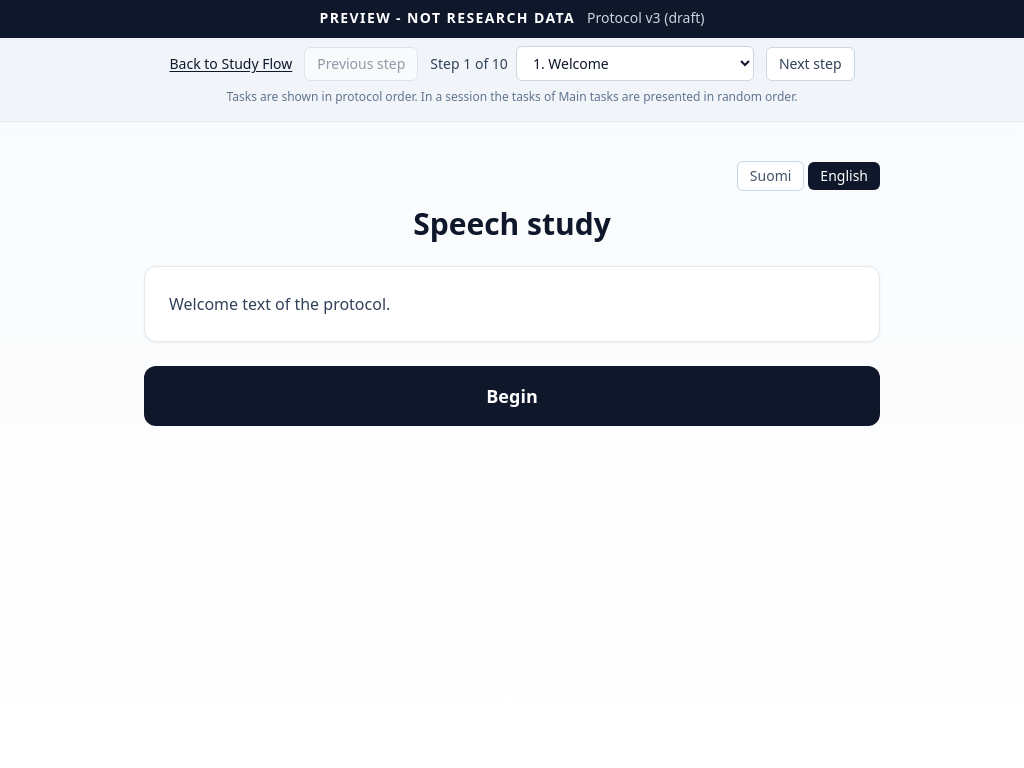
Test: PreviewFlow › offers the language buttons of the study and uses the participant dictionaries
Click the button "Suomi": (771, 176) [737,154,804,198]
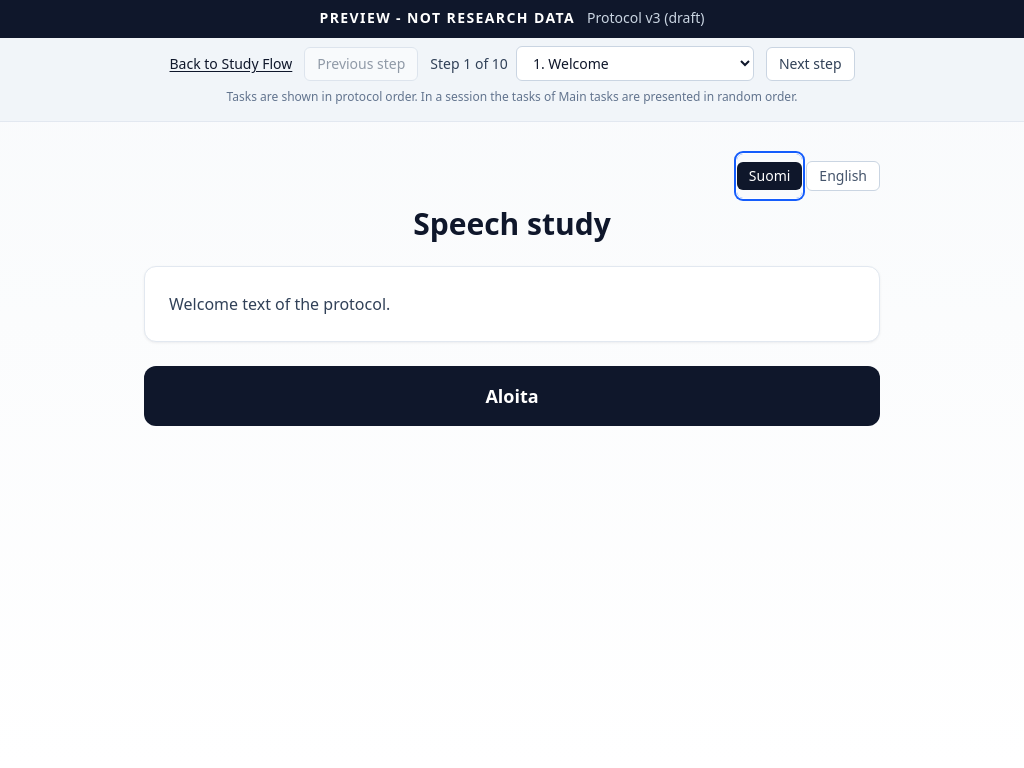
Expected: the button "Next step" is shown, [766,46,854,80]
Result: the button "Aloita" is shown at [144,366,880,426]
